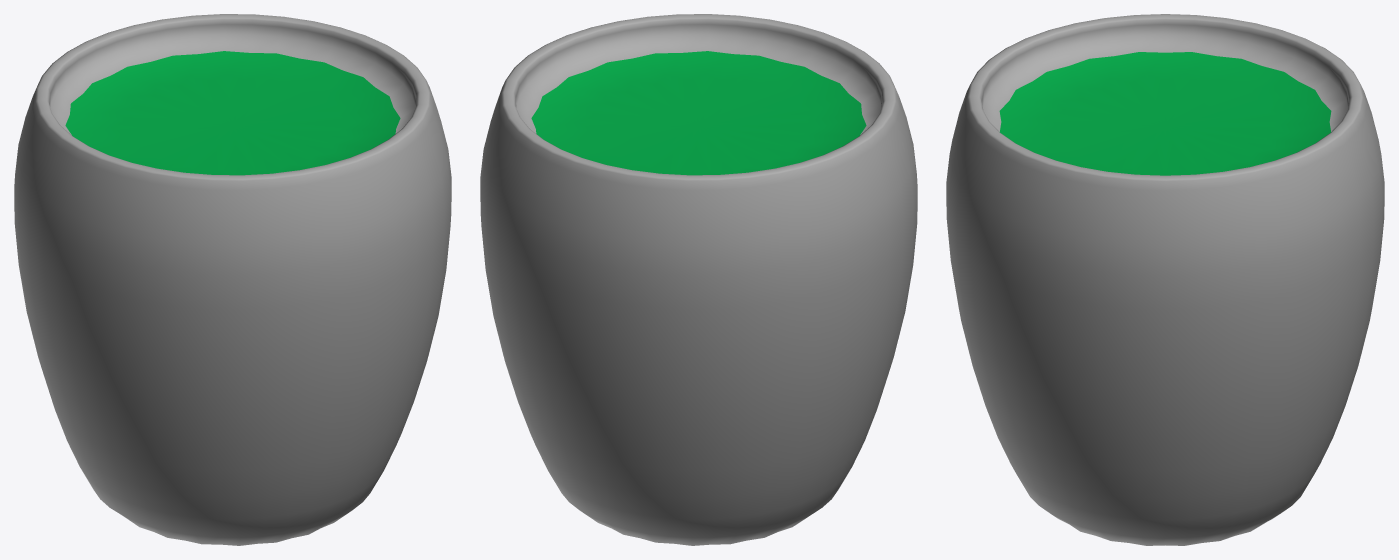
Rendered from TallPot.fbx.
3 renders of one model, left to right at view 1: azimuth 30°, elevation 25°; view 2: azimuth 150°, elevation 25°; view 3: azimuth 270°, elevation 25°, orthographic.
Visible parts, largest first — view 1: pCylinder3; view 2: pCylinder3; view 3: pCylinder3.
Part boxes in pixels (x1,y1,x2,y2): pCylinder3: [14, 14, 451, 545]; pCylinder3: [480, 14, 917, 545]; pCylinder3: [946, 14, 1384, 545].
Size of the model in its own units: 51.89 by 52.93 by 51.89.
